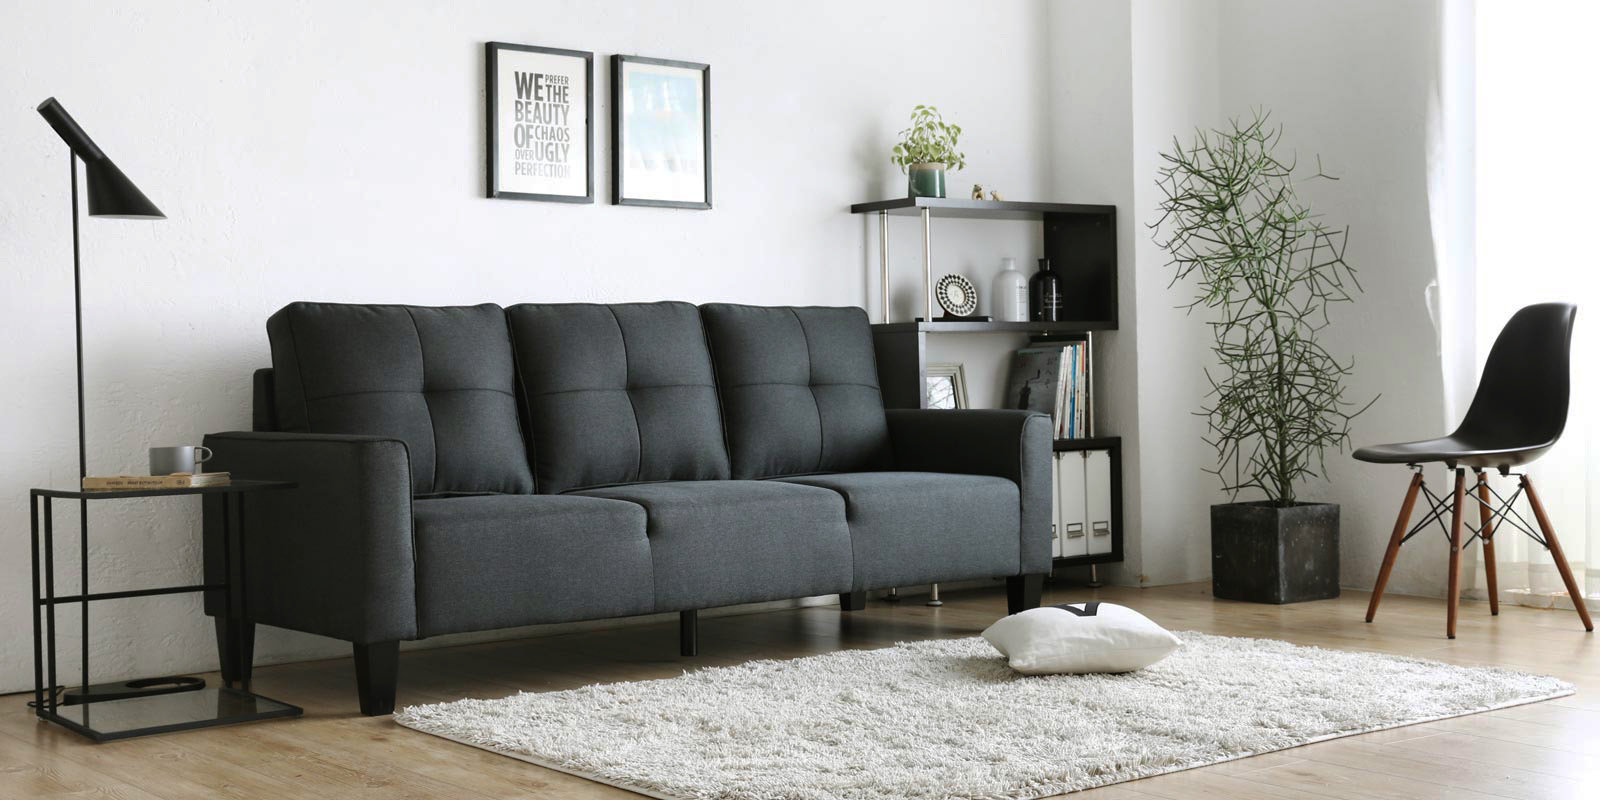Alice Three Seater Sofa in Grey Colour by Zofa: (203, 298, 1056, 695)
